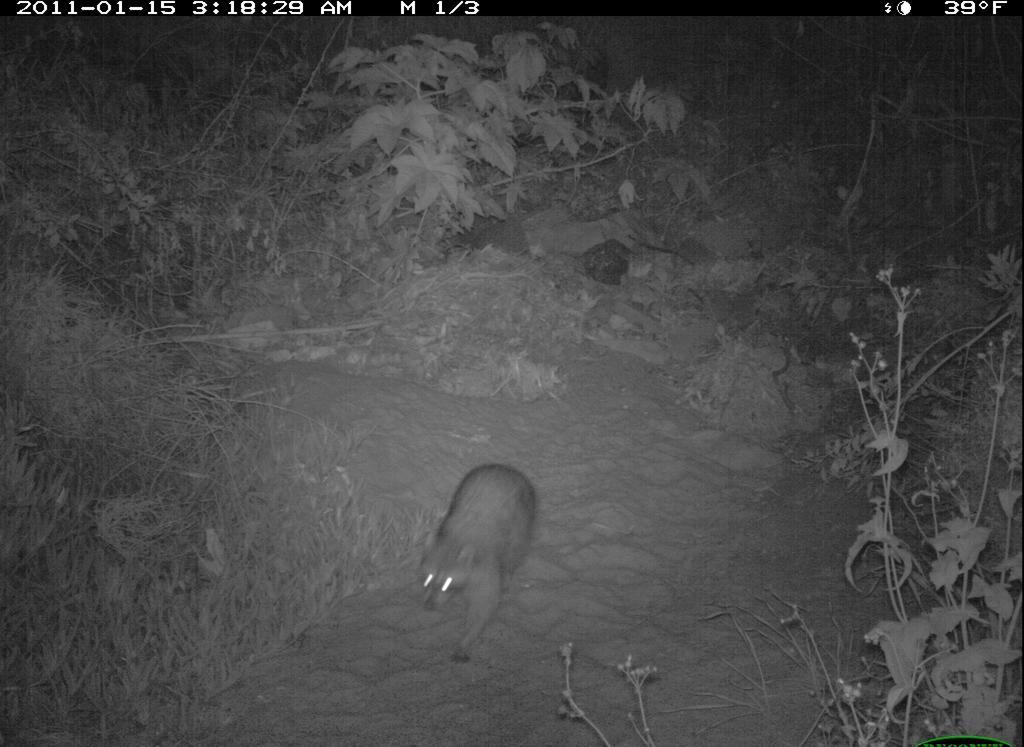raccoon: (409, 457, 547, 665)
